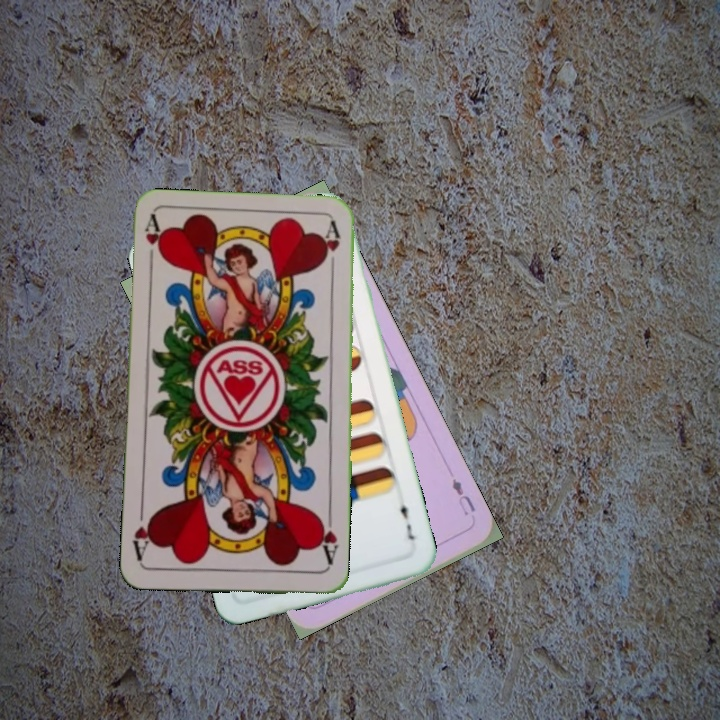E7: (396, 495, 419, 543)
EU: (447, 474, 478, 519)
HA: (314, 510, 341, 569), (141, 214, 166, 273)
